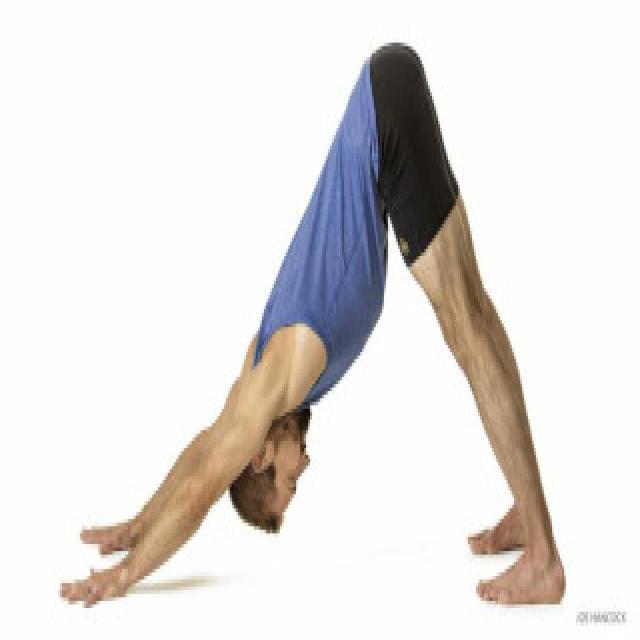yoga-pose downward: (68, 39, 571, 604)
